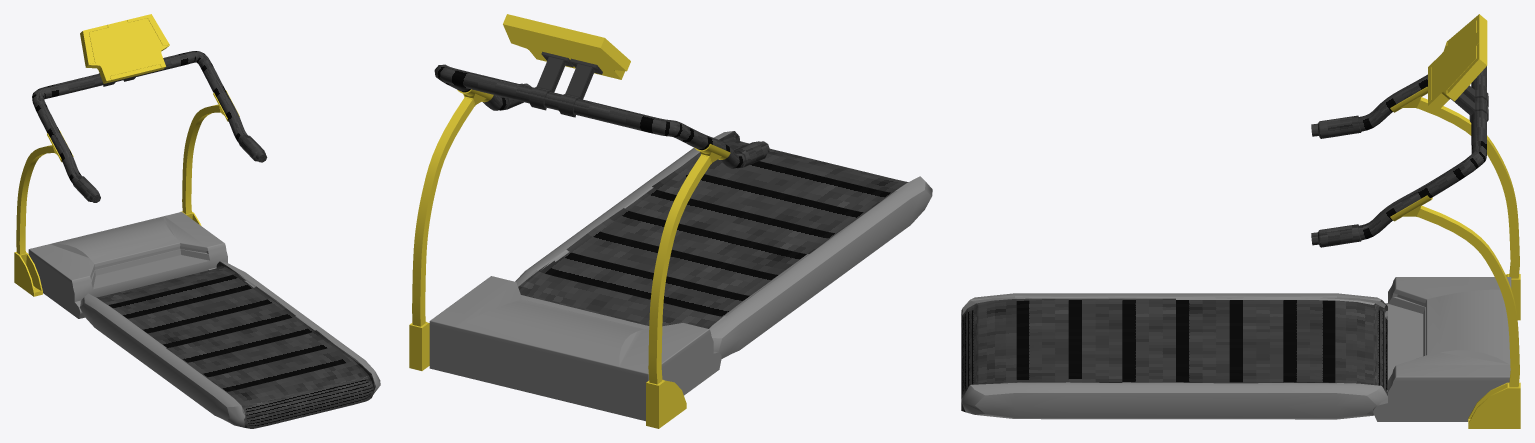
Rendered from caminadora.obj.
3 renders of one model, left to right at view 1: azimuth 30°, elevation 25°; view 2: azimuth 150°, elevation 25°; view 3: azimuth 270°, elevation 25°, orthographic. The views are drawn at different scales.
Visible parts, largest first — view 1: polySurface4 polySurface2 Box001, Conveyor_Belt_Head, polySurface5, polySurface1, pCube3, pCube1group2, pCube1group1; view 2: polySurface4 polySurface2 Box001, Conveyor_Belt_Head, polySurface5, polySurface1, pCube1group2, pCube1group1, pCube3; view 3: polySurface4 polySurface2 Box001, polySurface5, Conveyor_Belt_Head, polySurface1, pCube1group1, pCube3, pCube1group2.
Boxes of the visible parts, left/top/right/bottom form: polySurface4 polySurface2 Box001: left=96, top=261, right=375, bottom=428; Conveyor_Belt_Head: left=28, top=212, right=227, bottom=318; polySurface5: left=79, top=261, right=380, bottom=427; polySurface1: left=32, top=51, right=267, bottom=202; pCube3: left=80, top=14, right=169, bottom=83; pCube1group2: left=14, top=145, right=57, bottom=296; pCube1group1: left=180, top=104, right=223, bottom=225; polySurface4 polySurface2 Box001: left=518, top=131, right=908, bottom=328; Conveyor_Belt_Head: left=429, top=276, right=721, bottom=421; polySurface5: left=515, top=131, right=932, bottom=359; polySurface1: left=434, top=51, right=769, bottom=168; pCube1group2: left=646, top=151, right=721, bottom=428; pCube1group1: left=409, top=93, right=486, bottom=370; pCube3: left=503, top=14, right=630, bottom=79; polySurface4 polySurface2 Box001: left=961, top=298, right=1387, bottom=412; polySurface5: left=961, top=293, right=1387, bottom=419; Conveyor_Belt_Head: left=1373, top=277, right=1511, bottom=421; polySurface1: left=1311, top=66, right=1488, bottom=247; pCube1group1: left=1402, top=205, right=1520, bottom=428; pCube3: left=1428, top=14, right=1487, bottom=112; pCube1group2: left=1401, top=96, right=1520, bottom=320.
Size of the model in its own units: 5.57 by 7.48 by 11.23.
Materials: 4 (4 with a texture image).
